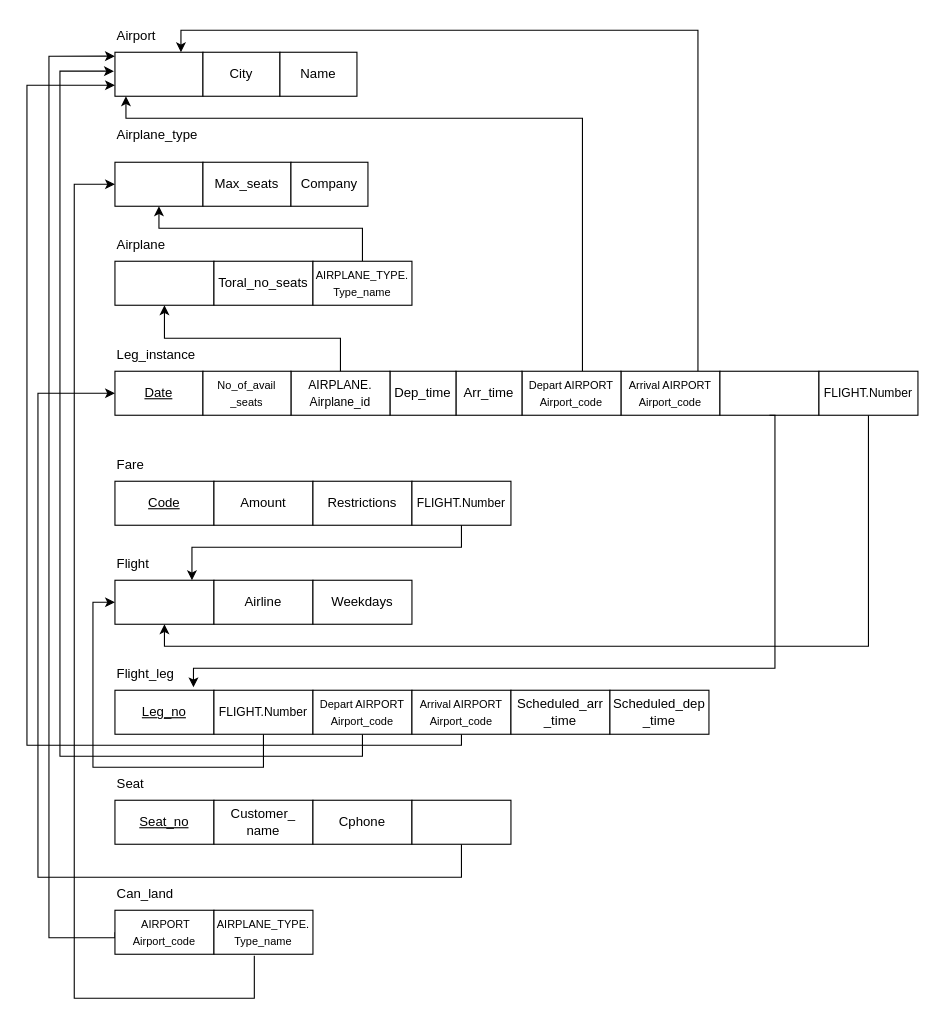
Image size: 937x1026. Some labels were removed from this diagram. Here are the shapes that lost their labels. From the top down, the centre of each, then its label:
At point 158,73: "Airport_code".
At point 158,183: "Type_name".
At point 164,282: "Airplane_id".
At point 769,392: "FLIGHT_LEG. Leg_no".
At point 164,601: "Number".
At point 461,821: "LEG_INSTANCE .Date".
